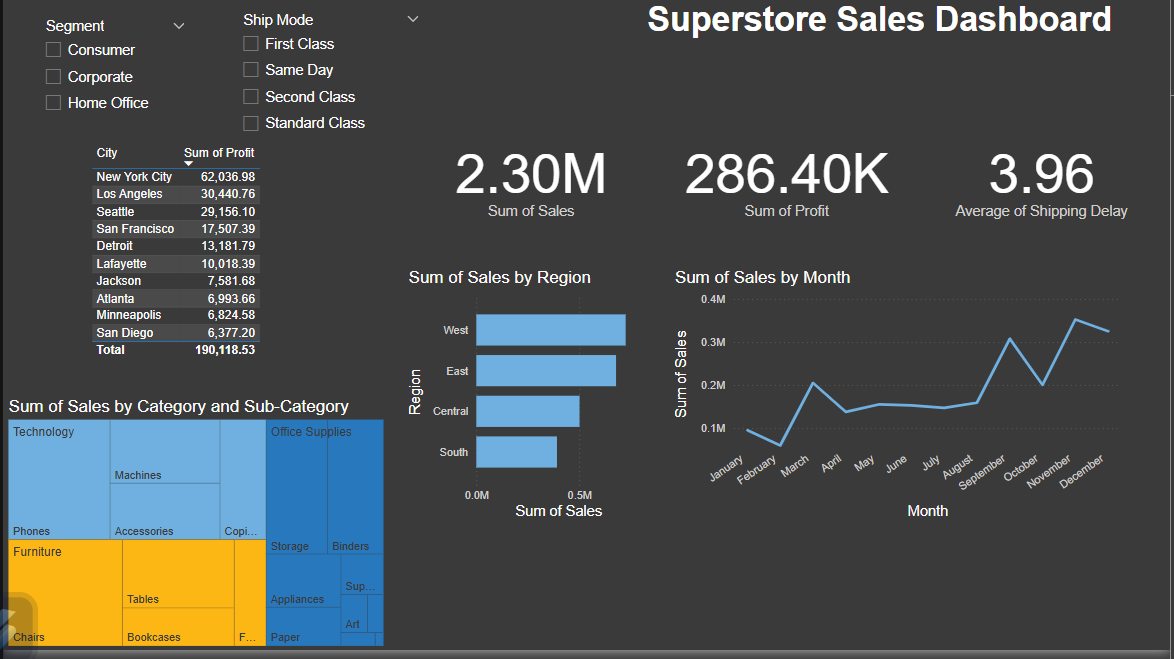

What the dashboard file says about the page in this screenshot:
{"tool":"powerbi","page":{"name":"Page 1","canvas":[1280,720],"ordinal":0},"visuals":[{"type":"card","fields":{"Values":["Sum(cleaned_superstore_data.Sales)"]},"box":[439,59.9,279.4,279.4],"z":0},{"type":"card","fields":{"Values":["Sum(cleaned_superstore_data.Profit)"]},"box":[718.4,59.9,280.8,279.4],"z":1000},{"type":"card","fields":{"Values":["Avg(cleaned_superstore_data.Shipping Delay)"]},"box":[999.2,59.9,280.8,279.4],"z":2000},{"type":"barChart","fields":{"Category":["cleaned_superstore_data.Region"],"Y":["Sum(cleaned_superstore_data.Sales)"]},"box":[439,299.3,279.4,280.8],"z":3000},{"type":"lineChart","fields":{"Y":["Sum(cleaned_superstore_data.Sales)"],"Category":["cleaned_superstore_data.Order Date.Variation.Date Hierarchy.Month"]},"box":[731.2,299.3,500.3,280.8],"z":4000},{"type":"treemap","fields":{"Group":["cleaned_superstore_data.Category"],"Details":["cleaned_superstore_data.Sub-Category"],"Values":["Sum(cleaned_superstore_data.Sales)"]},"box":[0,440.4,421.9,279.4],"z":5000},{"type":"tableEx","fields":{"Values":["cleaned_superstore_data.City","Sum(cleaned_superstore_data.Profit)"]},"box":[91.2,159.6,239.5,258],"z":6000},{"type":"slicer","fields":{"Values":["cleaned_superstore_data.Segment"]},"box":[32.8,20,178.2,139.7],"z":6001},{"type":"slicer","fields":{"Values":["cleaned_superstore_data.Ship Mode"]},"box":[249.4,14.3,218.1,149.7],"z":6002},{"type":"textbox","box":[701.3,0,530.2,59.9],"z":6003}]}

Visuals, with their boxes in screenshot pixels (x1, y1, x2, y2), scaled from the page's 1280x720 canvas onto the 1174x659 screenshot:
card - Sum(cleaned_superstore_data.Sales): bbox=(403, 55, 659, 311)
card - Sum(cleaned_superstore_data.Profit): bbox=(659, 55, 916, 311)
card - Avg(cleaned_superstore_data.Shipping Delay): bbox=(916, 55, 1173, 311)
barChart - cleaned_superstore_data.Region x Sum(cleaned_superstore_data.Sales): bbox=(403, 274, 659, 531)
lineChart - Sum(cleaned_superstore_data.Sales) x cleaned_superstore_data.Order Date.Variation.Date Hierarchy.Month: bbox=(671, 274, 1130, 531)
treemap - cleaned_superstore_data.Category x cleaned_superstore_data.Sub-Category: bbox=(0, 403, 387, 658)
tableEx - cleaned_superstore_data.City x Sum(cleaned_superstore_data.Profit): bbox=(84, 146, 303, 382)
slicer - cleaned_superstore_data.Segment: bbox=(30, 18, 194, 146)
slicer - cleaned_superstore_data.Ship Mode: bbox=(229, 13, 429, 150)
textbox: bbox=(643, 0, 1130, 55)
